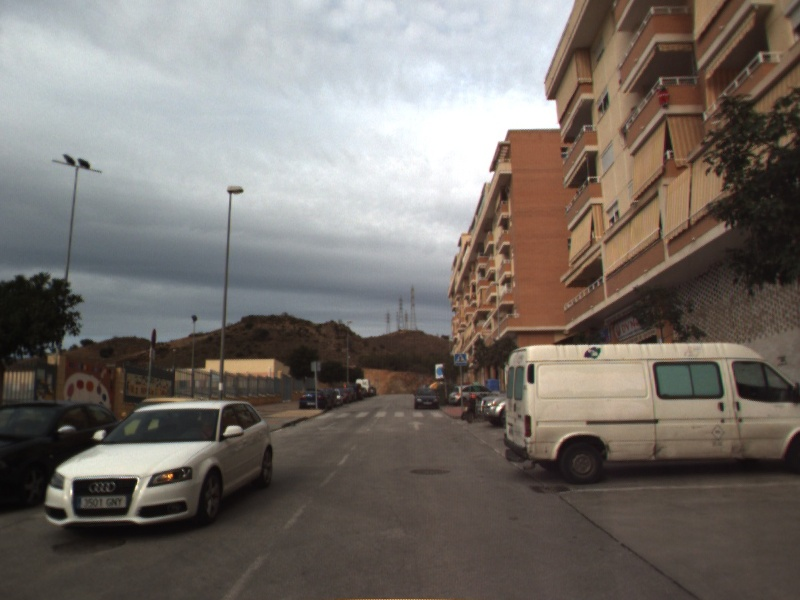STRAIGHT: (406, 419, 427, 432)
